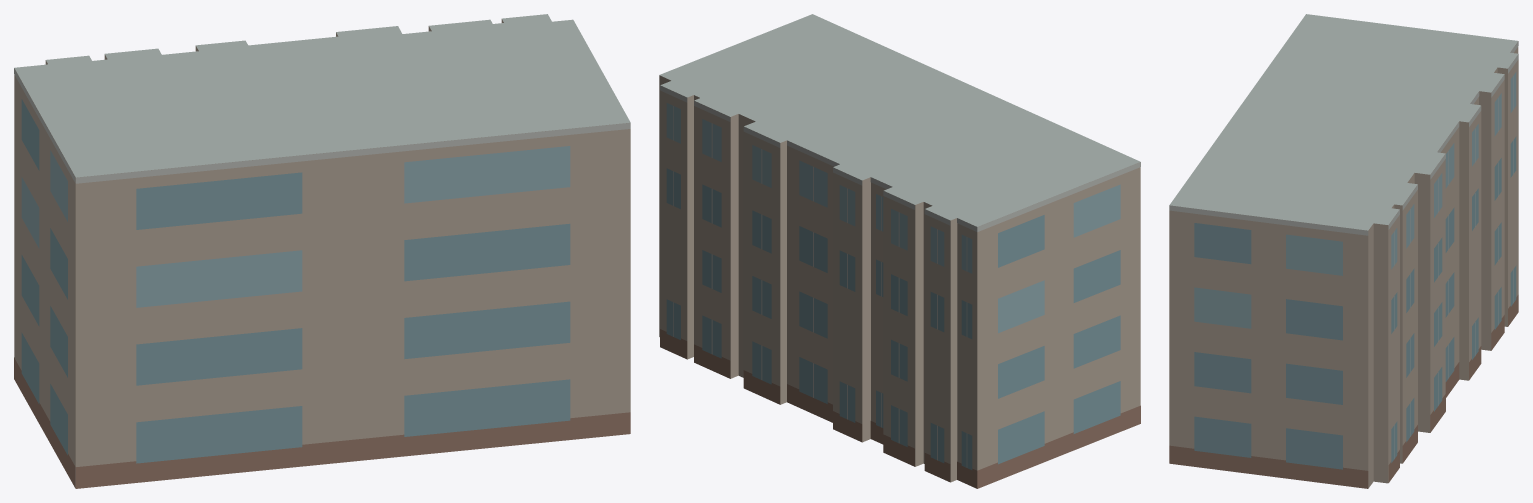
The model's file is survey-upis-32818330.glb.
3 renders of one model, left to right at view 1: azimuth 30°, elevation 25°; view 2: azimuth 150°, elevation 25°; view 3: azimuth 270°, elevation 25°, orthographic. The views are drawn at different scales.
Parts seen in each view (by area): view 1: survey-upis-32818330.tmp; view 2: survey-upis-32818330.tmp; view 3: survey-upis-32818330.tmp.
Boxes of the visible parts, x1=… form: survey-upis-32818330.tmp: x1=14, y1=14, x2=630, y2=488; survey-upis-32818330.tmp: x1=659, y1=14, x2=1140, y2=488; survey-upis-32818330.tmp: x1=1169, y1=14, x2=1518, y2=488.
Size of the model in its own units: 21.95 by 12.2 by 14.97.
